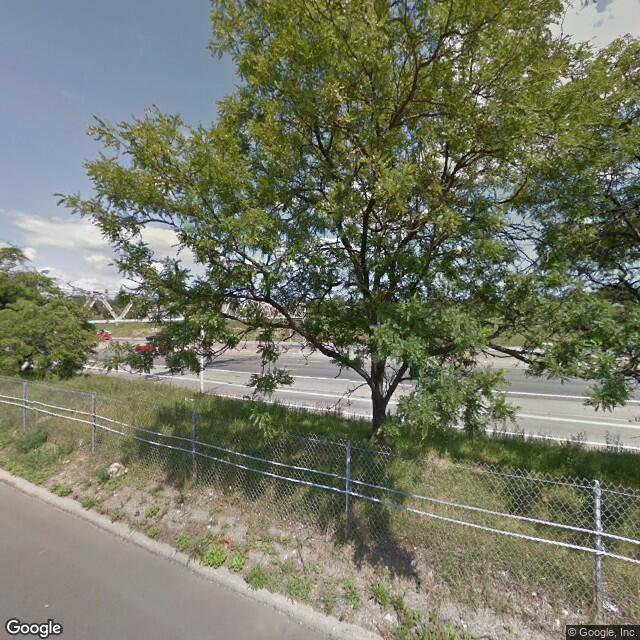litter: (107, 456, 127, 479), (384, 610, 399, 624)
